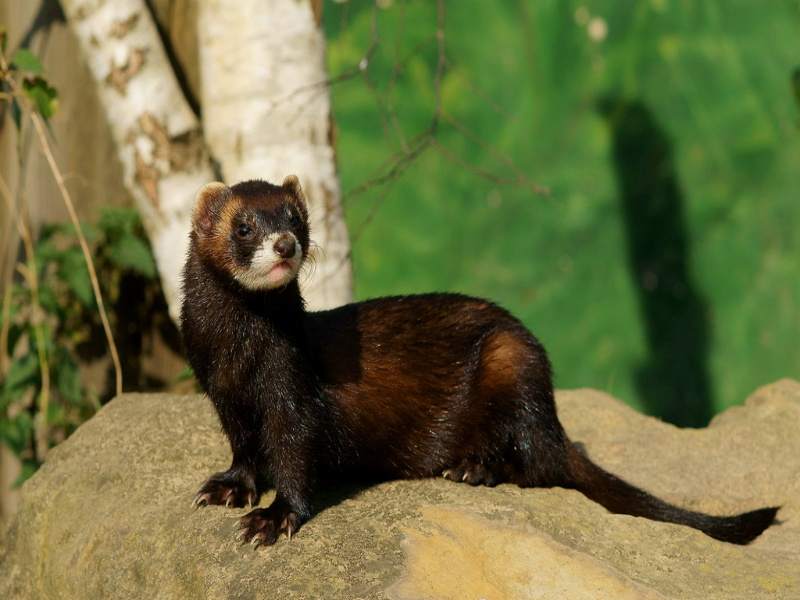minkish: (169, 173, 782, 552)
